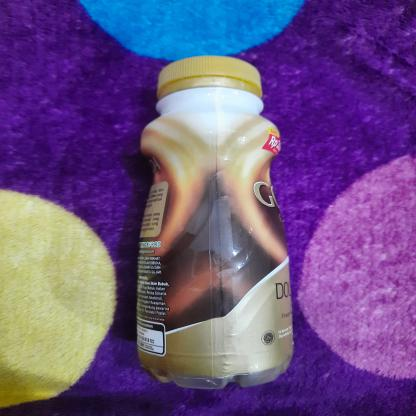bottle: (130, 55, 297, 392)
